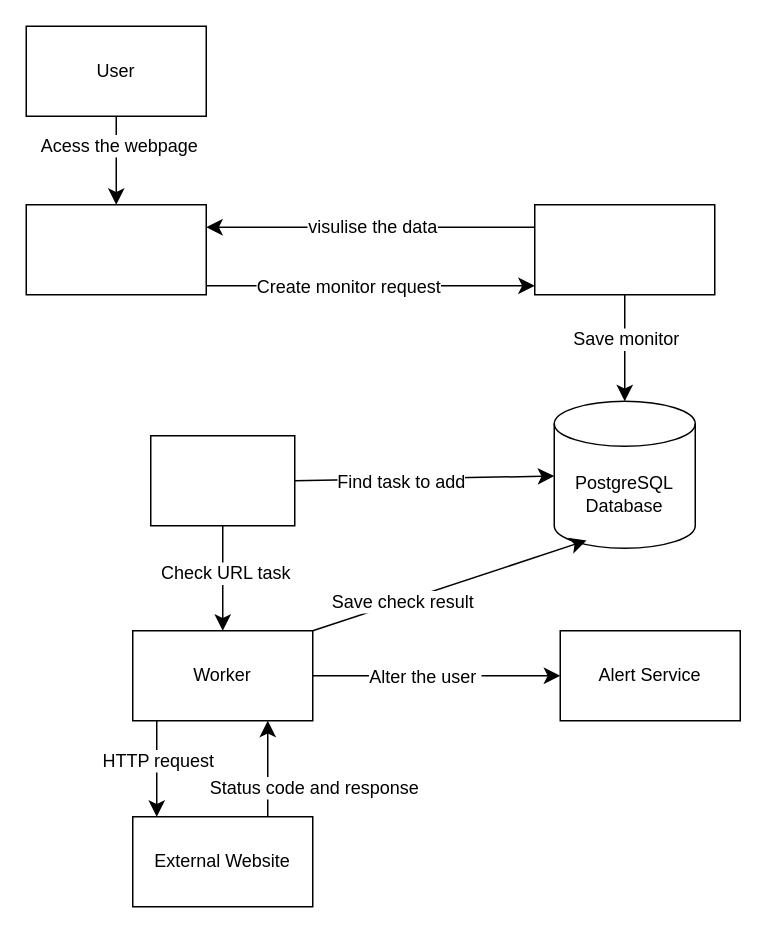
Some shapes in this 767 by 933 pixel diagram are drawn without their labels. Here are the shapes that lost their labels. From the top down, the centre of each, then its label:
At pixel 115 249: "Frontend".
At pixel 624 249: "Backend API".
At pixel 222 480: "Scheduler".
